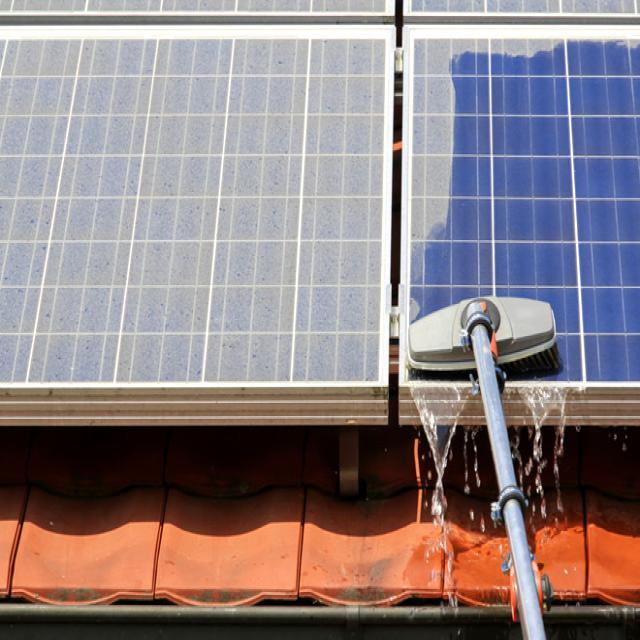dust: (2, 45, 240, 240), (410, 36, 552, 238), (252, 25, 376, 246), (5, 252, 216, 374), (228, 253, 366, 379)
